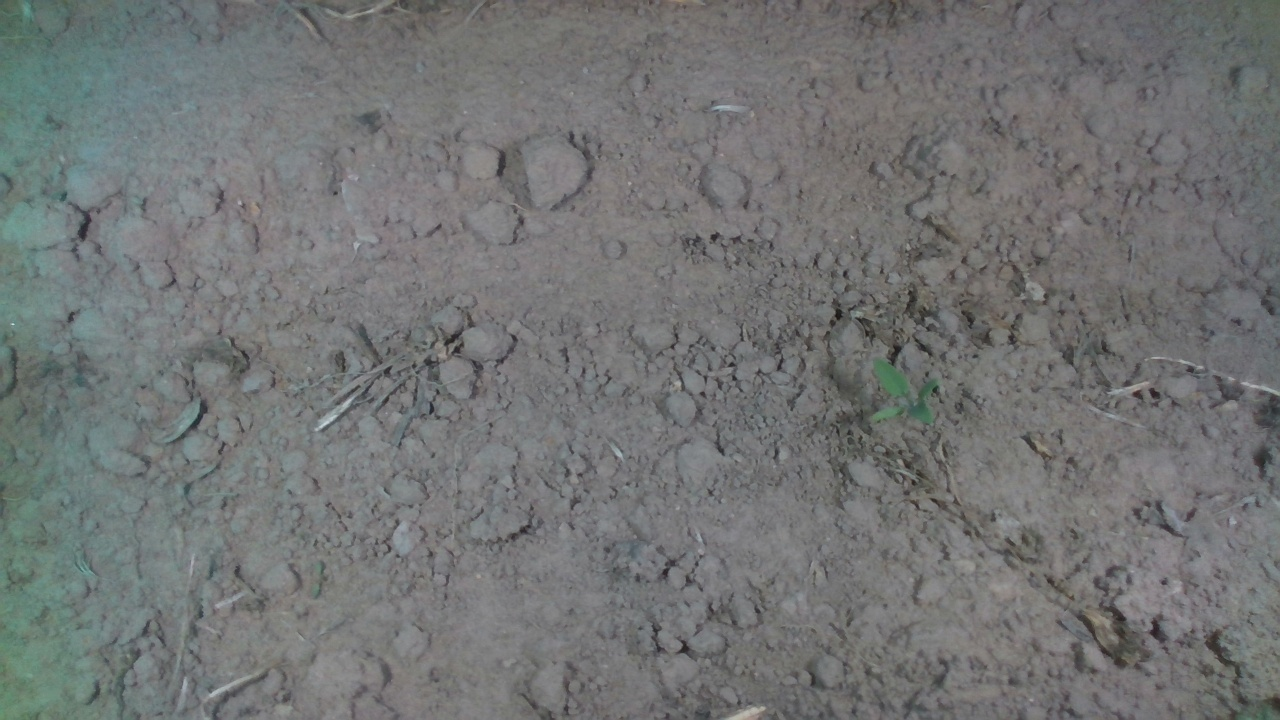weed: (867, 356, 940, 425)
